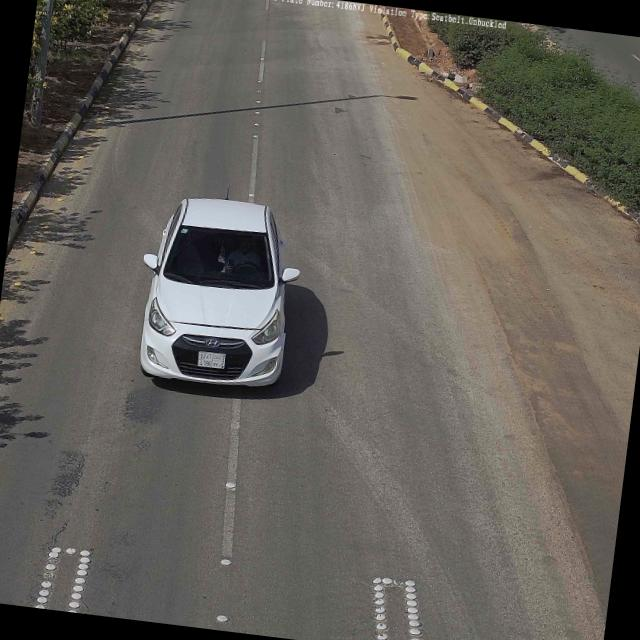person_without_seatbelt: (224, 238, 262, 276)
